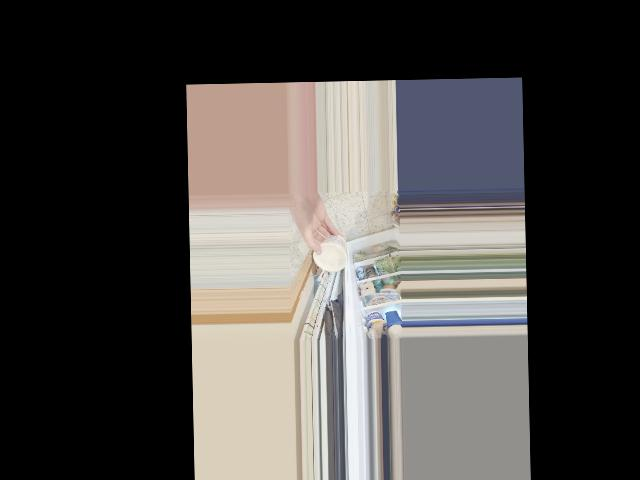cotage: (315, 235, 346, 275)
